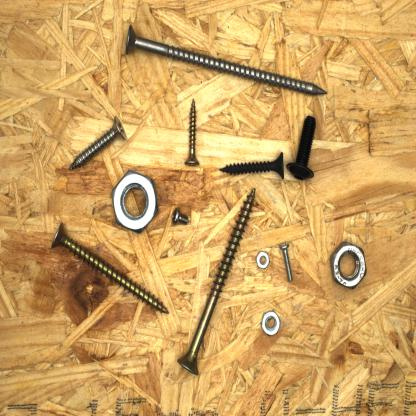screw: (123, 20, 331, 99), (175, 185, 257, 378), (48, 218, 174, 317), (66, 112, 130, 172), (284, 112, 321, 186), (218, 146, 288, 184), (181, 94, 203, 168), (277, 238, 296, 284)
